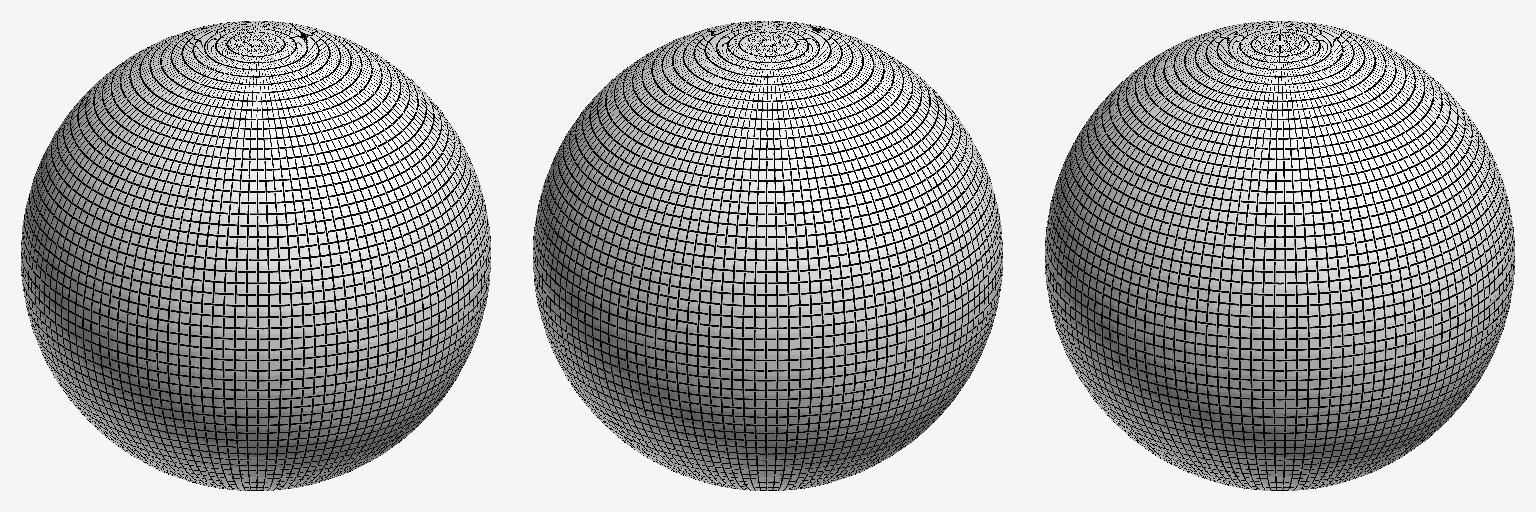
The picture shows the model from 3 angles: view 1: azimuth 30°, elevation 25°; view 2: azimuth 150°, elevation 25°; view 3: azimuth 270°, elevation 25°; orthographic projection.
Visible parts, largest first — view 1: Sphere; view 2: Sphere; view 3: Sphere.
Boxes of the visible parts, <box> form: Sphere: <box>21,21,490,490</box>; Sphere: <box>533,21,1002,490</box>; Sphere: <box>1045,21,1514,490</box>.
Bounding box in the file's own units: 2 × 2 × 2.
Materials: 1 (1 with a texture image).